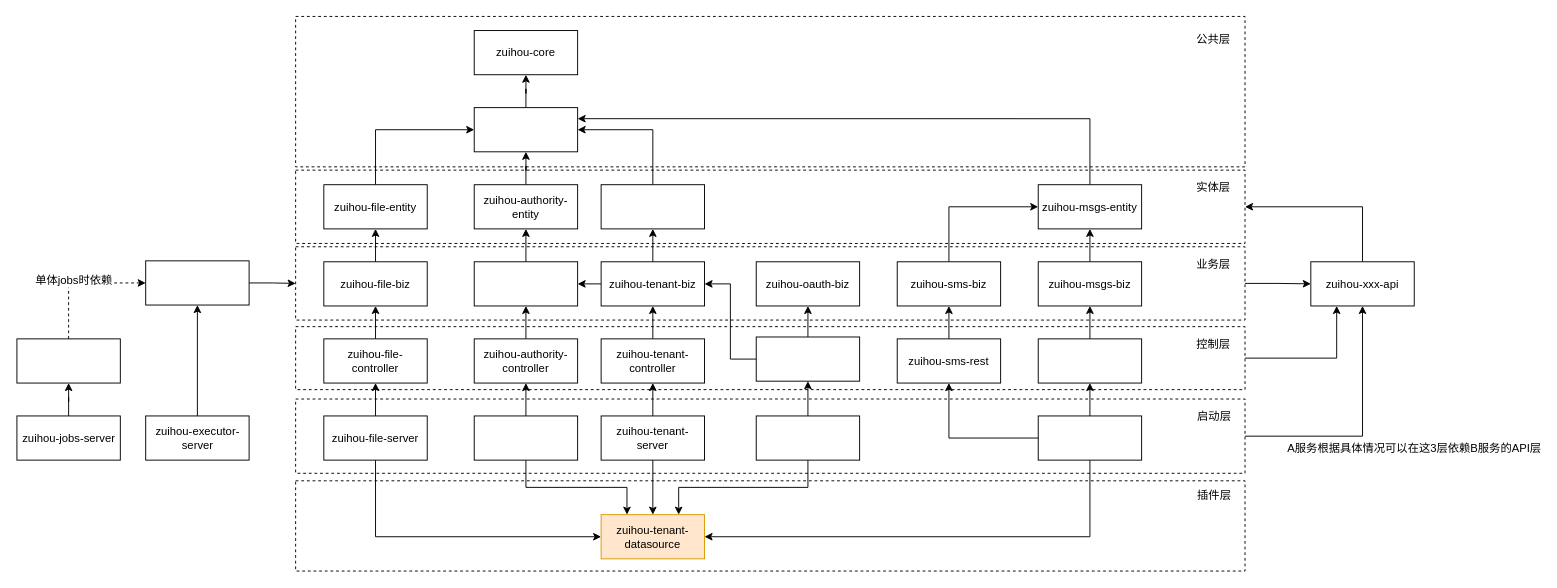
Some shapes in this 1557 by 588 pixel diagram are drawn without their labels. Each missing label, with the centre of its shape:
"zuihou-authority-biz" goes at pixel 525 283.
"zuihou-authority-server" goes at pixel 525 437.
"zuihou-common" goes at pixel 525 129.
"zuihou-executor" goes at pixel 197 282.
"zuihou-jobs-core" goes at pixel 68 360.
"zuihou-msgs-controller" goes at pixel 1089 360.
"zuihou-msgs-server" goes at pixel 1089 437.
"zuihou-oauth-controller" goes at pixel 807 358.
"zuihou-oauth-server" goes at pixel 807 437.
"zuihou-tenant-entity" goes at pixel 652 206.
